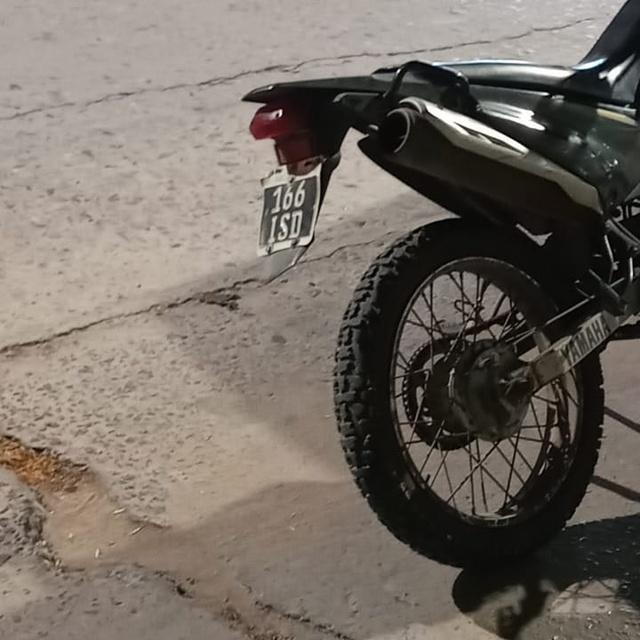matricula: (240, 145, 340, 266)
